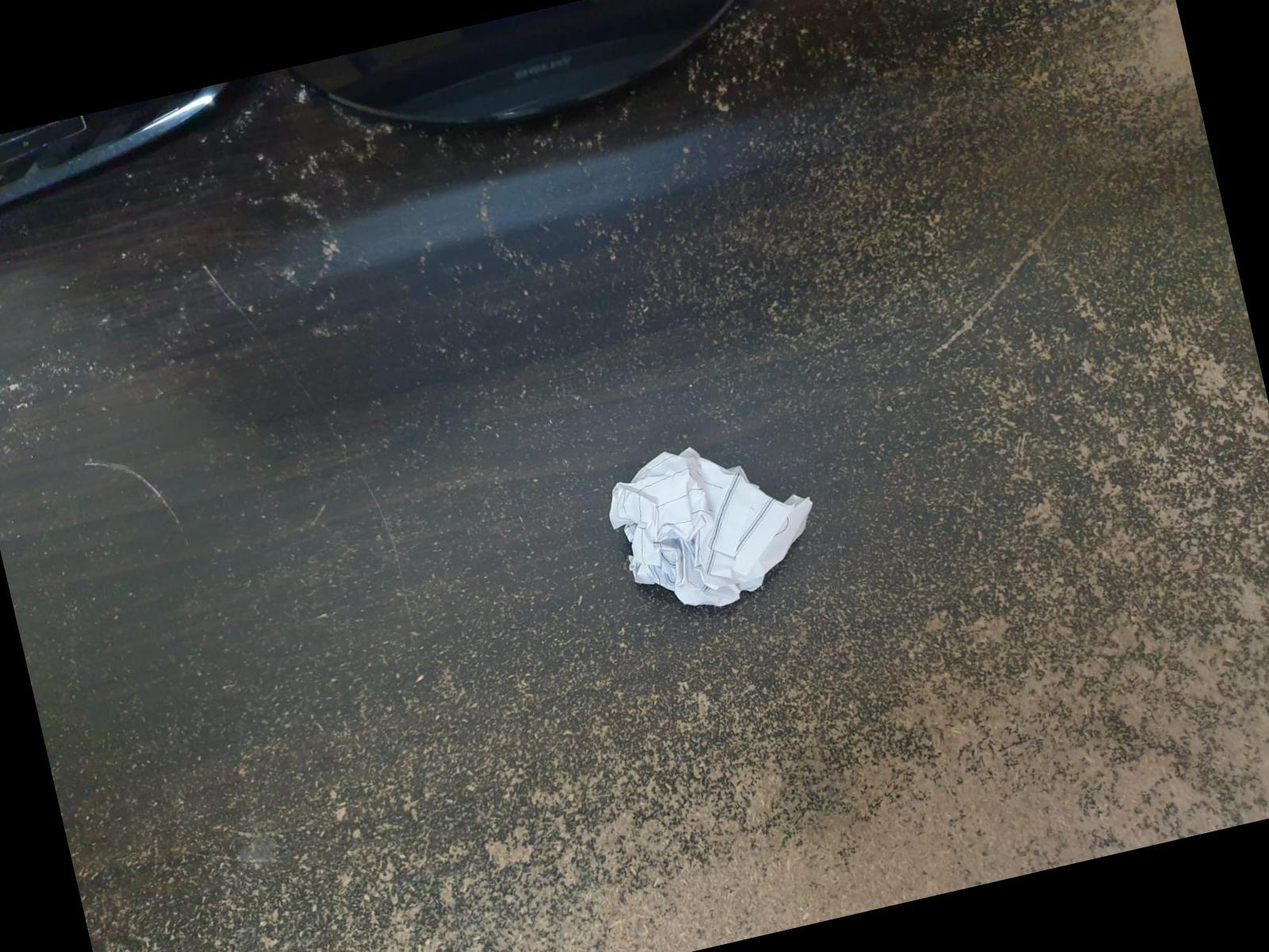Kertas: (599, 445, 819, 614)
